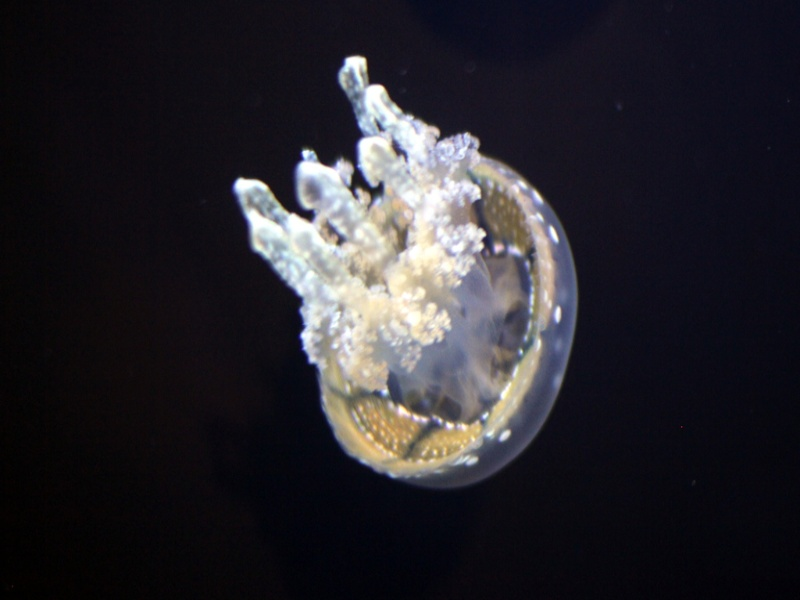Jellyfish: (229, 51, 579, 490)
